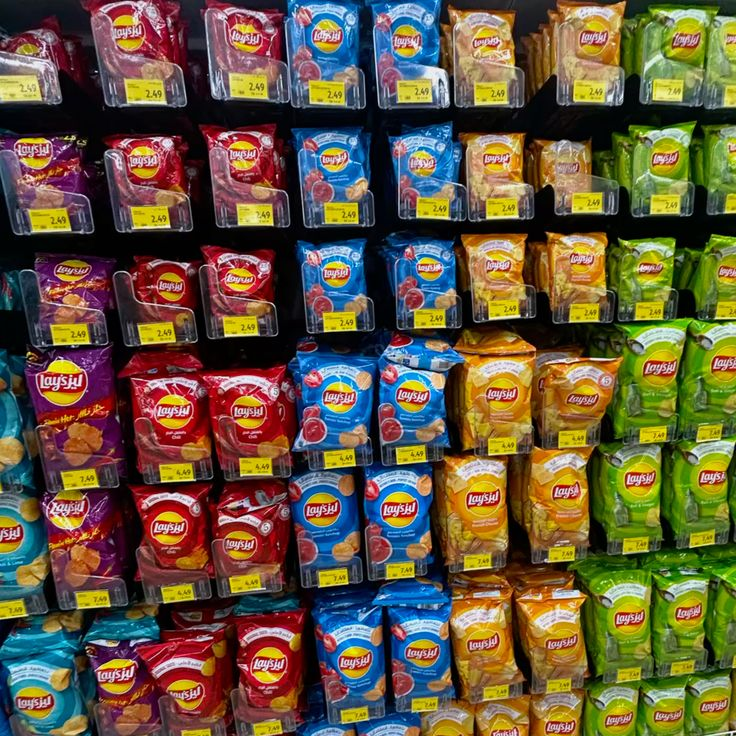snacks: (27, 347, 123, 465), (202, 365, 293, 474), (453, 330, 534, 450), (439, 457, 507, 564), (297, 239, 367, 329), (378, 353, 445, 444)
